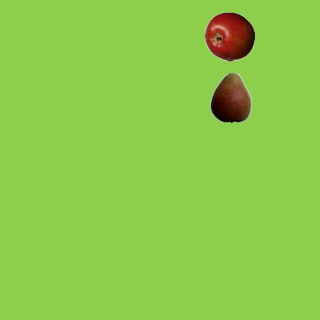Apple Braeburn: (204, 11, 254, 61)
Pear Forelle: (205, 72, 255, 122)
